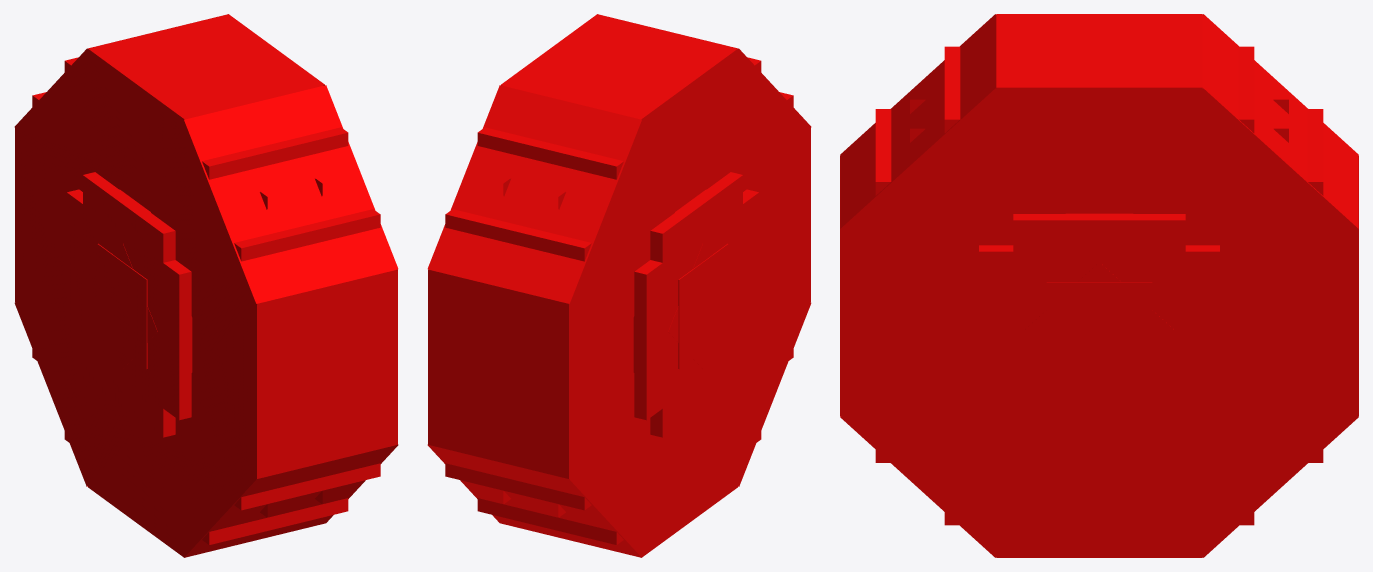
Rendered from wheellarge_test4_bigtrans.obj.
3 views of the same model, side by side, from view 1: azimuth 30°, elevation 25°; view 2: azimuth 150°, elevation 25°; view 3: azimuth 270°, elevation 25° (orthographic). The views are drawn at different scales.
Visible parts, largest first — view 1: #translucent_mudAcc_tire, rim, tire, #translucent_mudAcc_rim; view 2: #translucent_mudAcc_tire, rim, tire, #translucent_mudAcc_rim; view 3: #translucent_mudAcc_tire, rim, #translucent_mudAcc_rim, tire.
Part boxes in pixels (x1=…): #translucent_mudAcc_tire: x1=14, y1=14, x2=398, y2=557; rim: x1=66, y1=172, x2=322, y2=517; tire: x1=32, y1=50, x2=396, y2=544; #translucent_mudAcc_rim: x1=88, y1=243, x2=157, y2=368; #translucent_mudAcc_tire: x1=427, y1=14, x2=811, y2=557; rim: x1=503, y1=172, x2=759, y2=517; tire: x1=429, y1=50, x2=793, y2=544; #translucent_mudAcc_rim: x1=668, y1=243, x2=737, y2=368; #translucent_mudAcc_tire: x1=840, y1=14, x2=1358, y2=557; rim: x1=910, y1=99, x2=1288, y2=438; #translucent_mudAcc_rim: x1=1025, y1=262, x2=1173, y2=396; tire: x1=875, y1=15, x2=1323, y2=525.
Size of the model in its own units: 0.3789 by 0.9414 by 0.9414.
